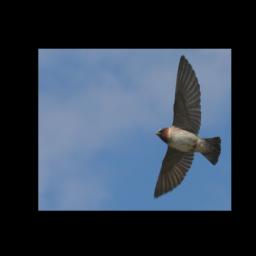Swallow: (153, 54, 222, 199)
